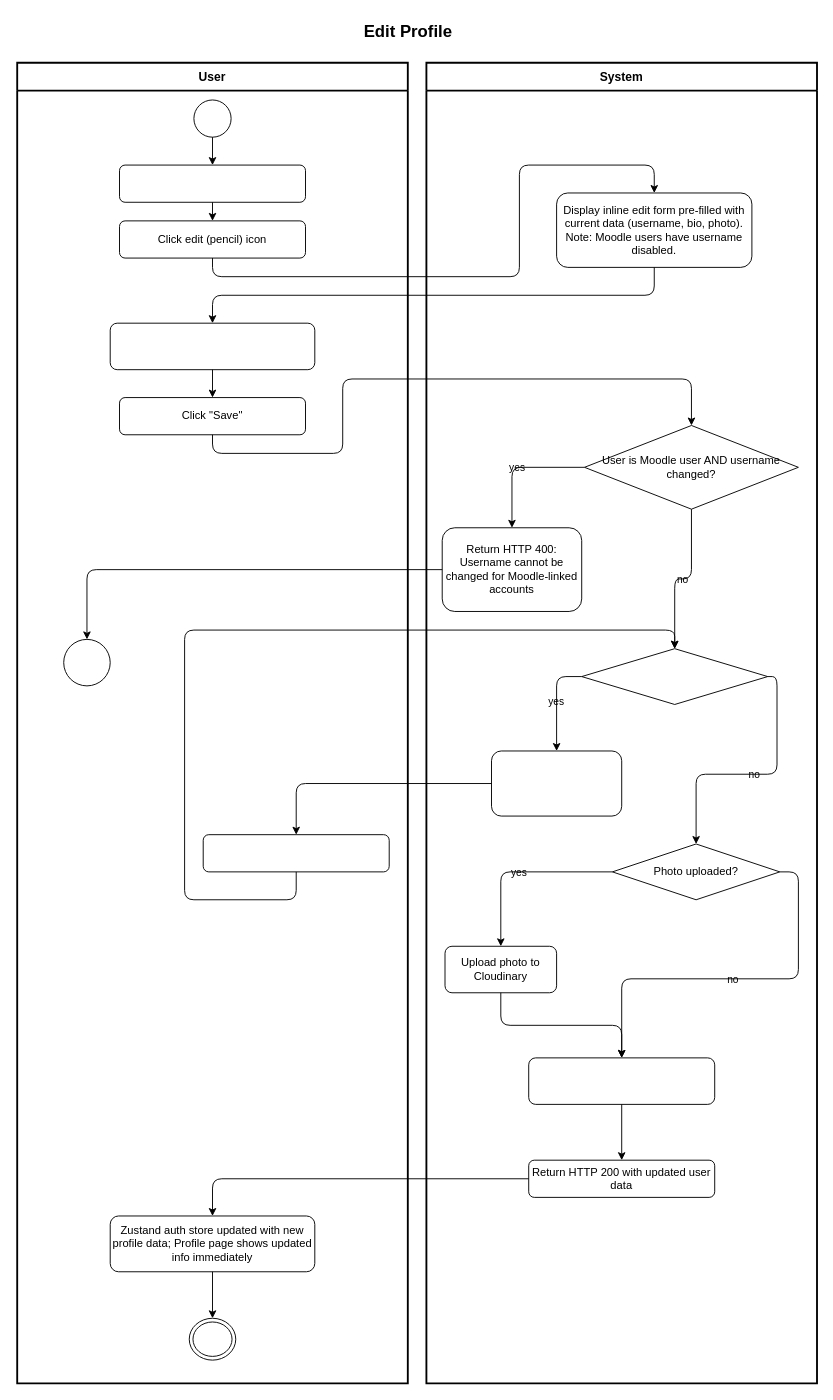
The diagram is 833 pixels wide and 1400 high, and some of its shapes have lost their labels. The centre of each missing label's shape, as x and y in pixels:
"Choose different username" goes at point 295,853.
"Modify desired fields (username, bio, photo)" goes at point 212,346.
"Navigate to My Profile page" goes at point 212,183.
"Return HTTP 400: Username already in use" goes at point 556,783.
"Update User record (username, user_bio, photo)" goes at point 621,1080.
"Username already taken?" goes at point 674,676.
